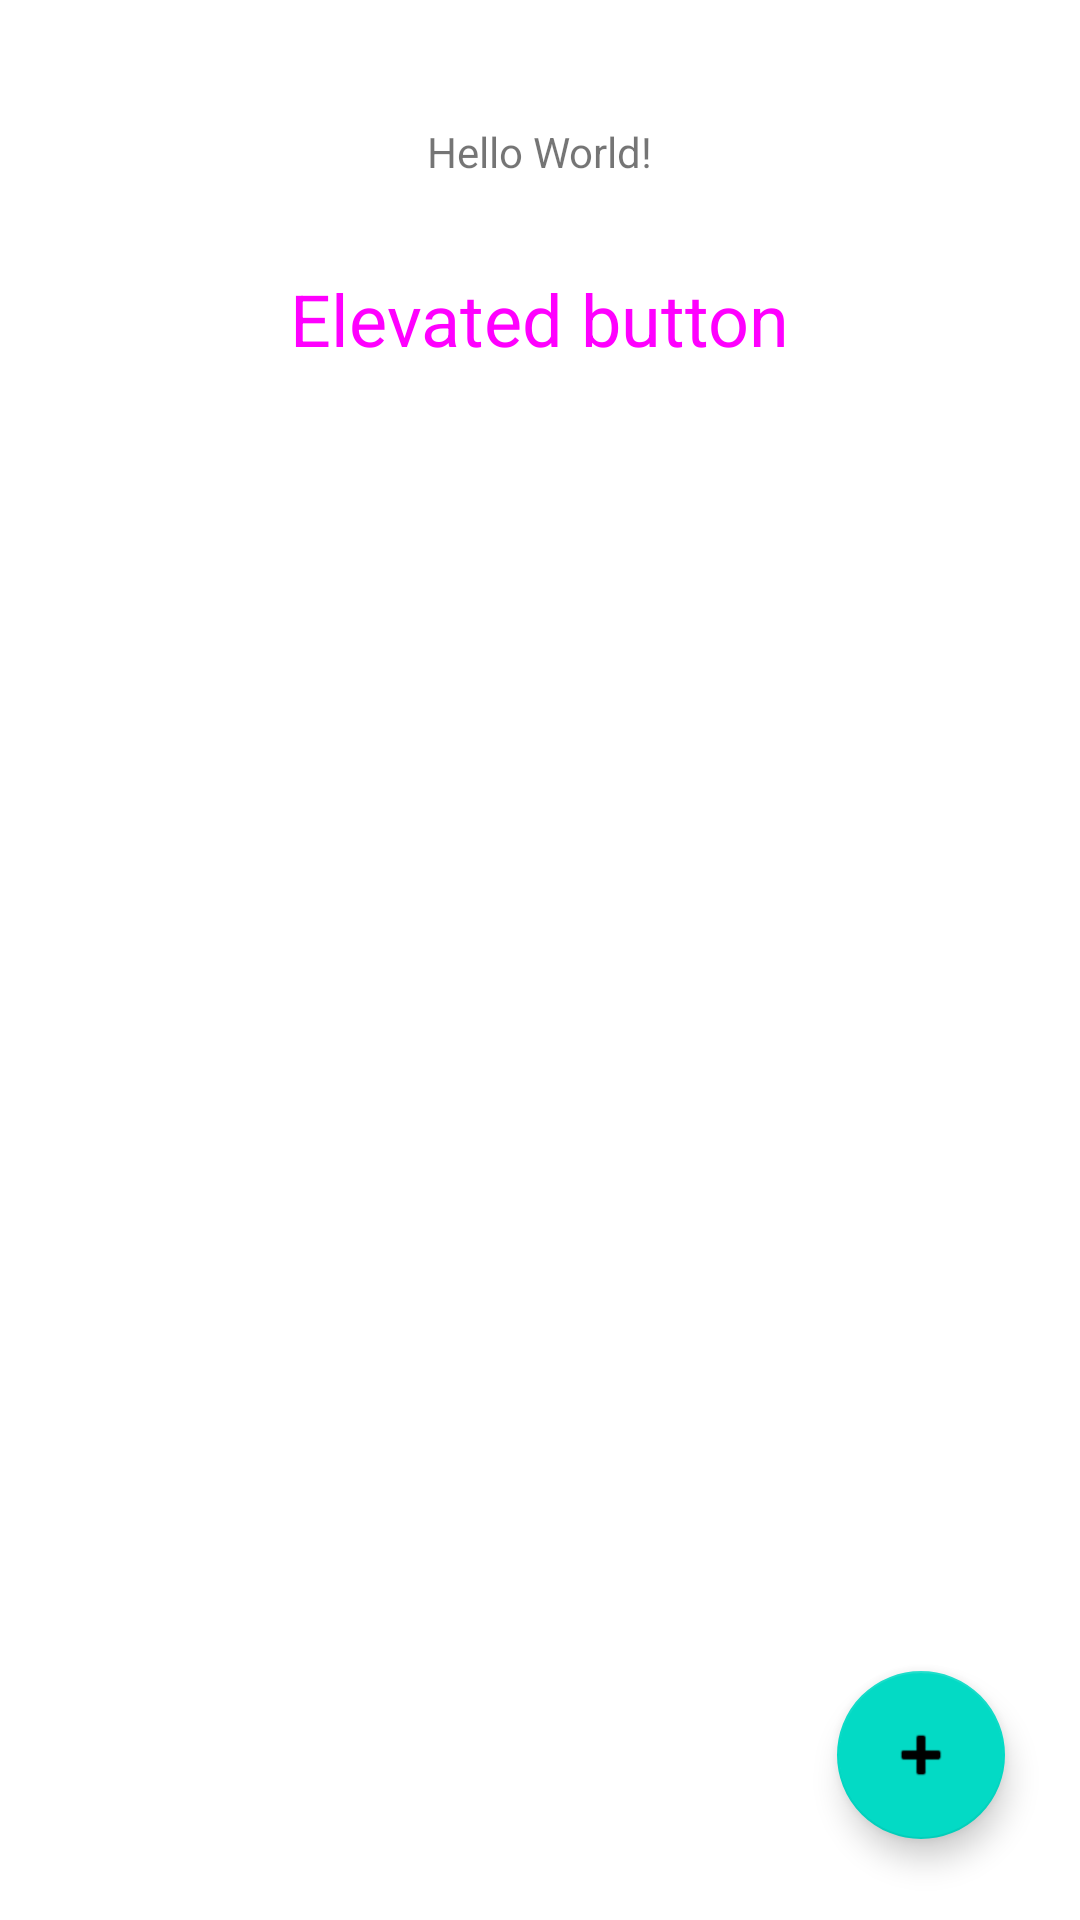

Screen size 1080px x 1920px. Icon name, then its center in pixels as (x=x, y=y):
add: (x=921, y=1755)
